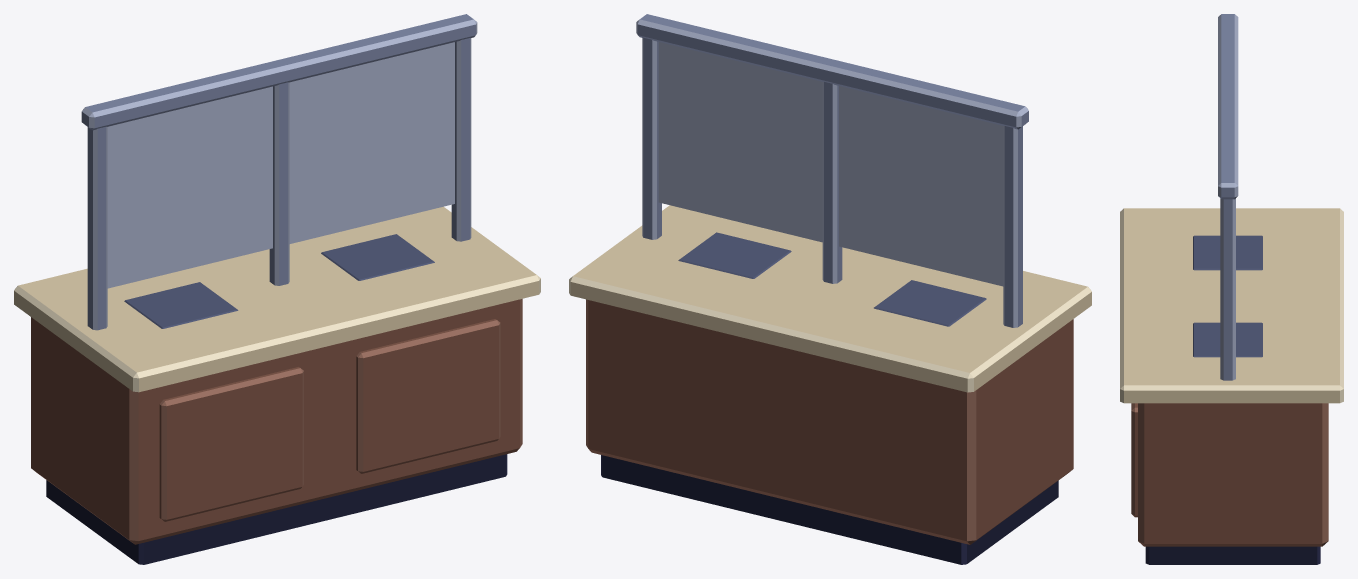
The model's file is TellerCounter_8x4.fbx.
The picture shows the model from 3 angles, left to right: view 1: azimuth 30°, elevation 25°; view 2: azimuth 150°, elevation 25°; view 3: azimuth 270°, elevation 25°; orthographic projection. The views are drawn at different scales.
Parts seen in each view (by area): view 1: TellerCounter_8x4, TellerCounter_8x4_Glass; view 2: TellerCounter_8x4, TellerCounter_8x4_Glass; view 3: TellerCounter_8x4.
Boxes of the visible parts, bbox=[...] form: TellerCounter_8x4: bbox=[14, 14, 540, 564]; TellerCounter_8x4_Glass: bbox=[107, 42, 454, 288]; TellerCounter_8x4: bbox=[569, 14, 1091, 564]; TellerCounter_8x4_Glass: bbox=[658, 42, 1003, 286]; TellerCounter_8x4: bbox=[1120, 14, 1343, 564].
Size of the model in its own units: 8.3 by 8.25 by 4.35.
Materials: 1 (1 with a texture image).
